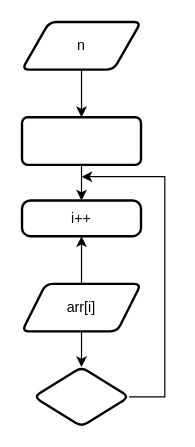
Image size: 195x447. Some labels were removed from this diagram. The shapes that lost their labels are listed below. From the top down, each one's centre as x and y in pixels, then its label:
At point 81,140: "i=-1".
At point 81,396: "i>=n".
